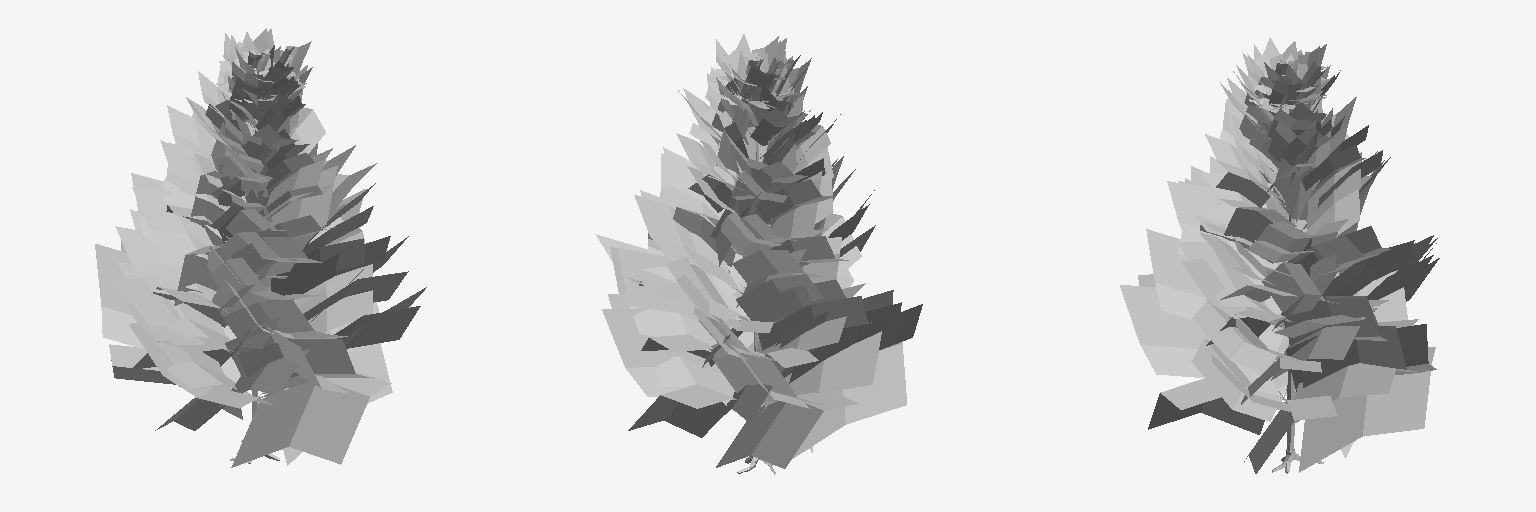
Rendered from Tree4.obj.
The picture shows the model from 3 angles: view 1: azimuth 30°, elevation 25°; view 2: azimuth 150°, elevation 25°; view 3: azimuth 270°, elevation 25°; orthographic projection.
Visible parts, largest first — view 1: Red_Spru; view 2: Red_Spru; view 3: Red_Spru.
Boxes of the visible parts, x1,y1,x2,y2 form: Red_Spru: [95, 28, 426, 467]; Red_Spru: [595, 34, 922, 474]; Red_Spru: [1120, 38, 1439, 473].
Size of the model in its own units: 22.91 by 32.41 by 22.56.